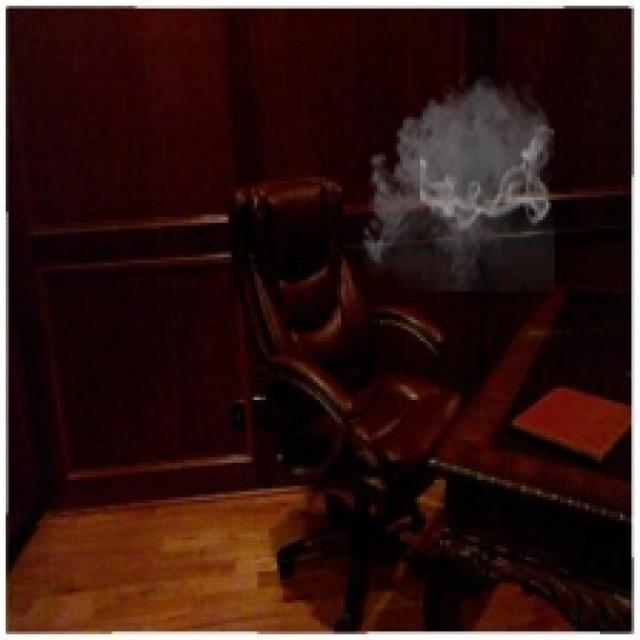Smoke: (357, 66, 557, 292)
